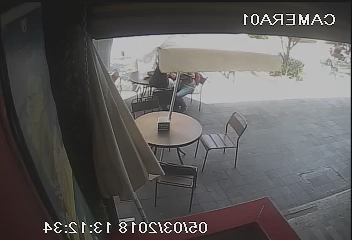libre: (127, 106, 237, 195)
ocupado: (114, 57, 205, 113)
